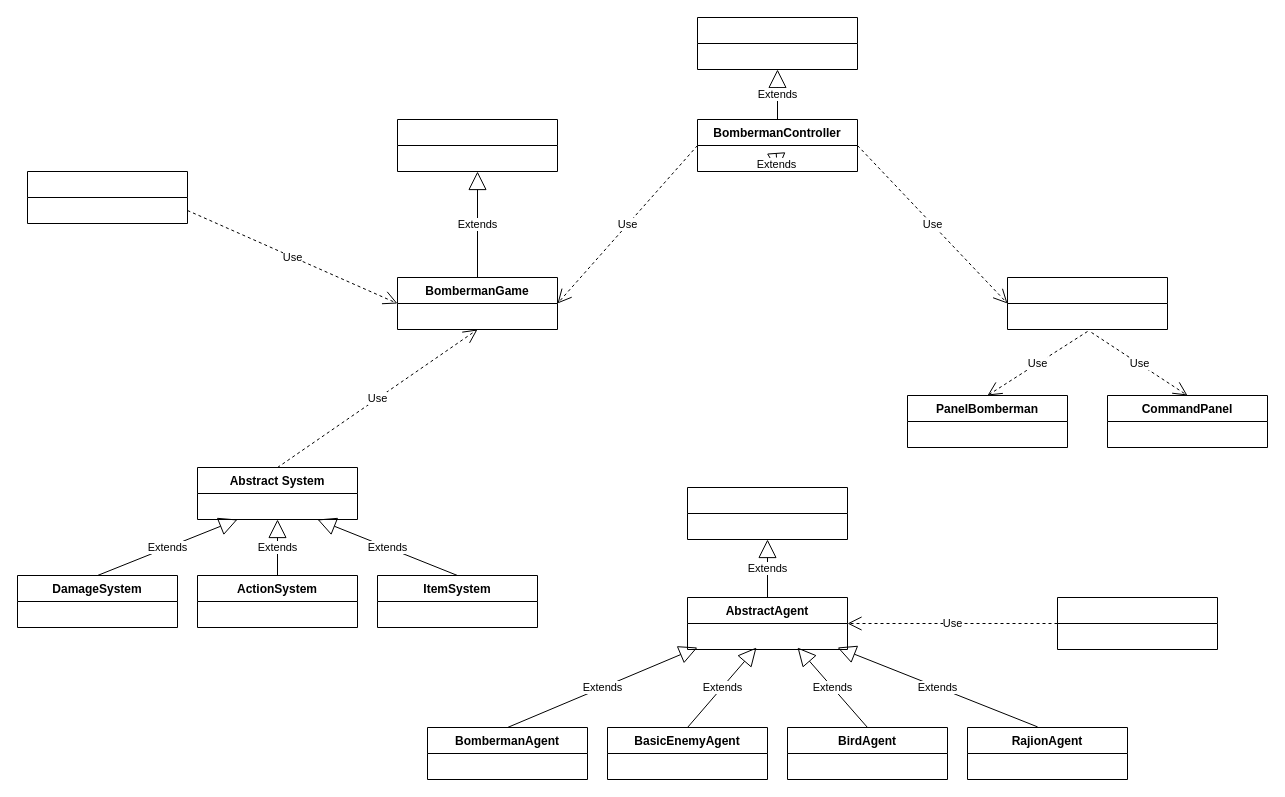
The diagram is 1285 pixels wide and 797 high, and some of its shapes have lost their labels. The box of each missing label's shape, as (x1, y1, x2, y2) in pixels:
AgentFactory: (1056, 596, 1218, 650)
BombermanView: (1006, 276, 1168, 330)
Controller: (696, 16, 858, 70)
Game: (396, 118, 558, 172)
InfoAgent: (686, 486, 848, 540)
Strategie: (26, 170, 188, 224)
